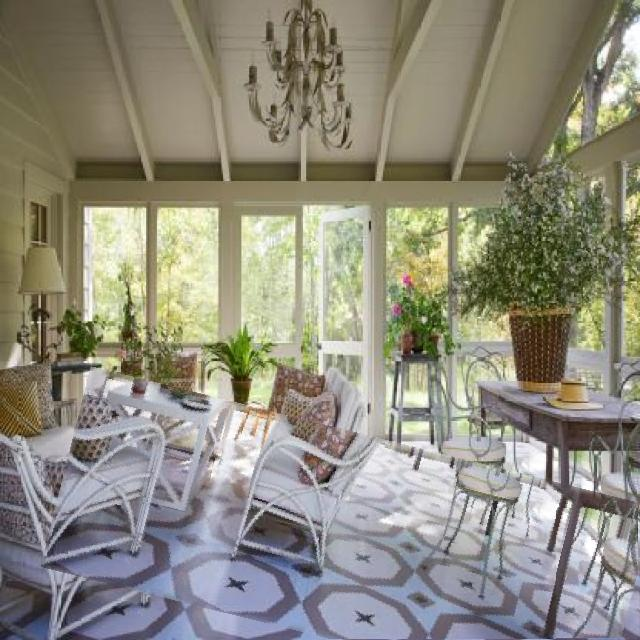floor: (41, 445, 571, 640), (557, 508, 639, 639)
